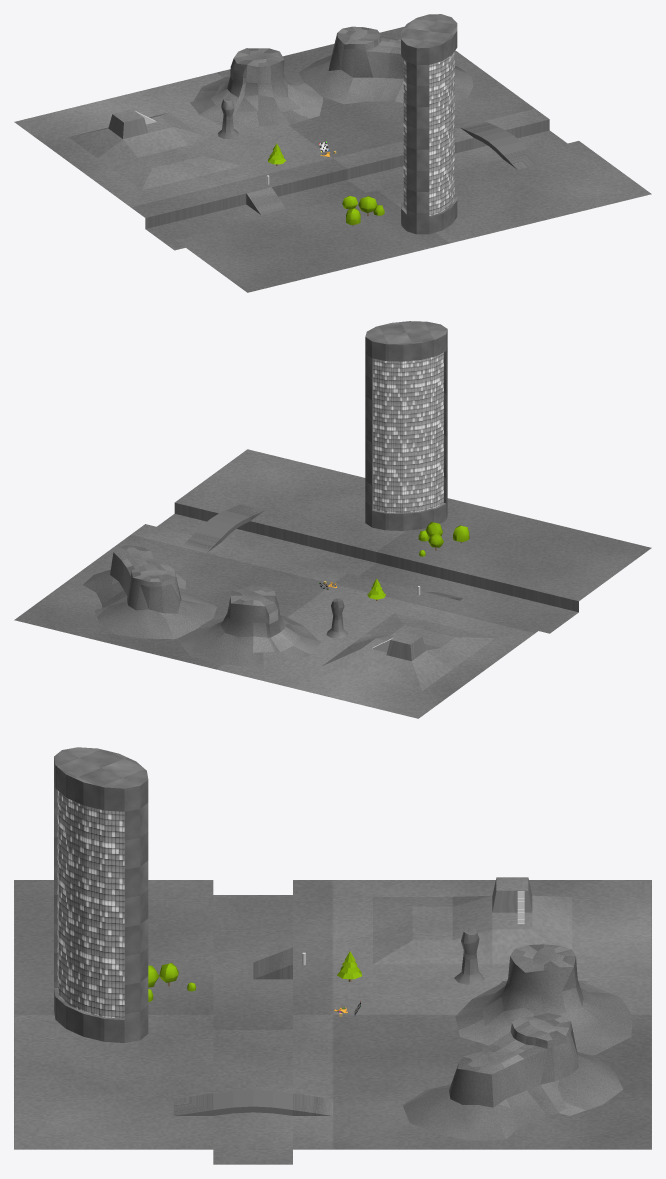
The picture shows the model from 3 angles, top to bottom: view 1: azimuth 30°, elevation 25°; view 2: azimuth 150°, elevation 25°; view 3: azimuth 270°, elevation 25°; orthographic projection. The views are drawn at different scales.
Parts seen in each view (by area): view 1: ground_nocast_collideMesh, building_collideCylinder, mesa_collideMesh, table_collideMesh, spire_collideMesh; view 2: ground_nocast_collideMesh, building_collideCylinder, table_collideMesh, mesa_collideMesh; view 3: ground_nocast_collideMesh, building_collideCylinder, table_collideMesh, mesa_collideMesh, spire_collideMesh.
Part boxes in pixels (bbox=[...]): ground_nocast_collideMesh: bbox=[14, 26, 651, 292]; building_collideCylinder: bbox=[401, 14, 457, 234]; mesa_collideMesh: bbox=[190, 48, 323, 126]; table_collideMesh: bbox=[299, 26, 473, 104]; spire_collideMesh: bbox=[218, 99, 238, 139]; ground_nocast_collideMesh: bbox=[14, 449, 651, 718]; building_collideCylinder: bbox=[365, 321, 447, 530]; table_collideMesh: bbox=[83, 545, 216, 639]; mesa_collideMesh: bbox=[176, 585, 320, 667]; ground_nocast_collideMesh: bbox=[14, 877, 651, 1164]; building_collideCylinder: bbox=[54, 747, 148, 1042]; table_collideMesh: bbox=[402, 1013, 623, 1140]; mesa_collideMesh: bbox=[455, 944, 632, 1055]; spire_collideMesh: bbox=[454, 928, 484, 984].
Size of the model in its own units: 100 by 46.61 by 100.
Materials: 17 (3 with a texture image).
